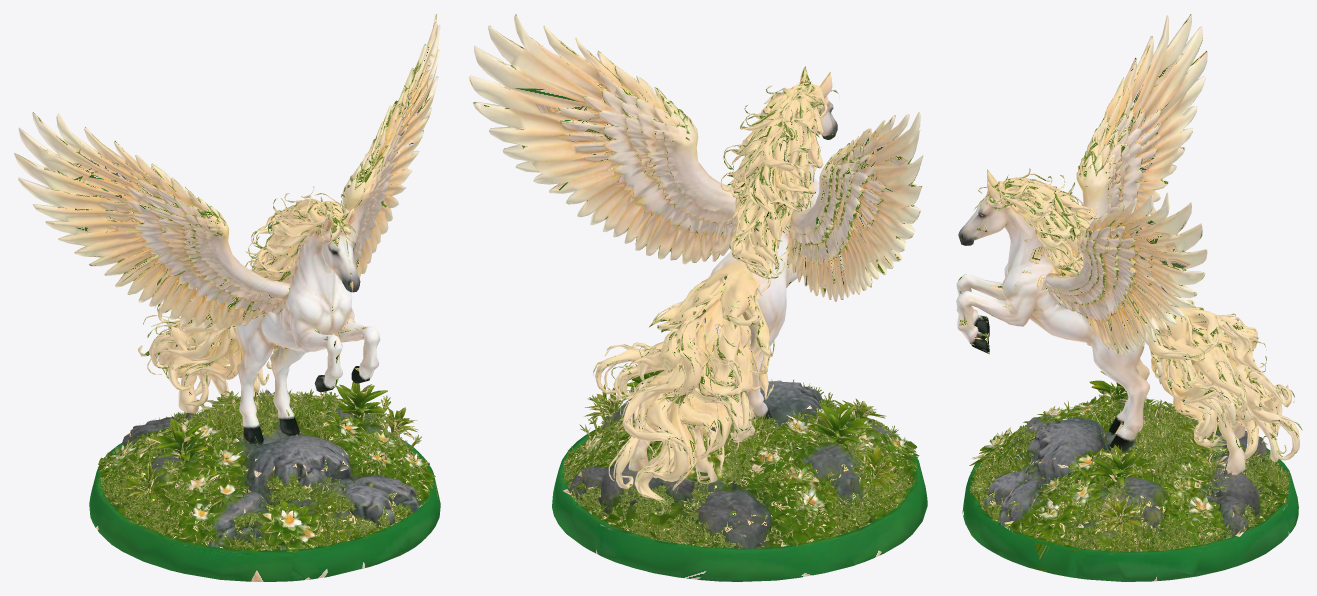
Rendered from pegasus.glb.
3 renders of one model, left to right at view 1: azimuth 30°, elevation 25°; view 2: azimuth 150°, elevation 25°; view 3: azimuth 270°, elevation 25°, orthographic. The views are drawn at different scales.
Bounding box in the file's own units: 1.9 × 1.81 × 1.4.
Materials: 1 (1 with a texture image).
